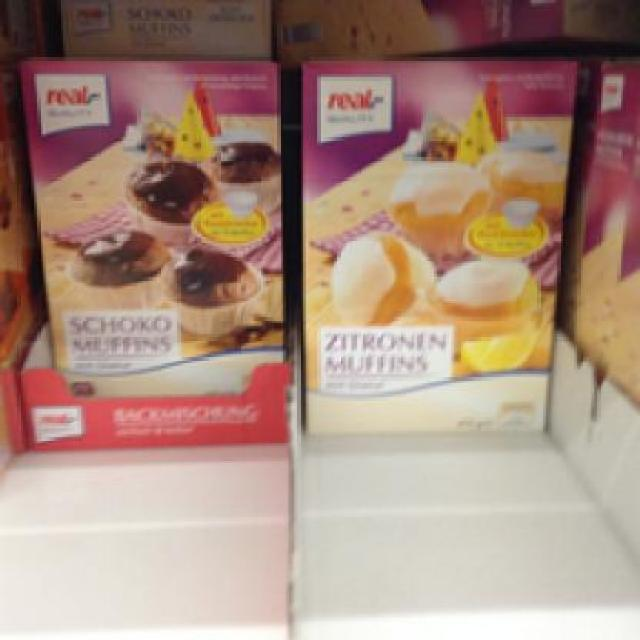Cake: (294, 57, 577, 446), (14, 51, 283, 403)
